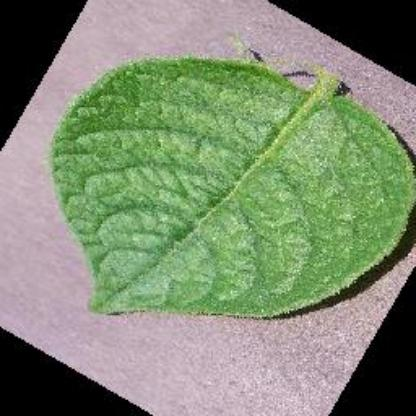Healthy-plant: (43, 14, 416, 392)
